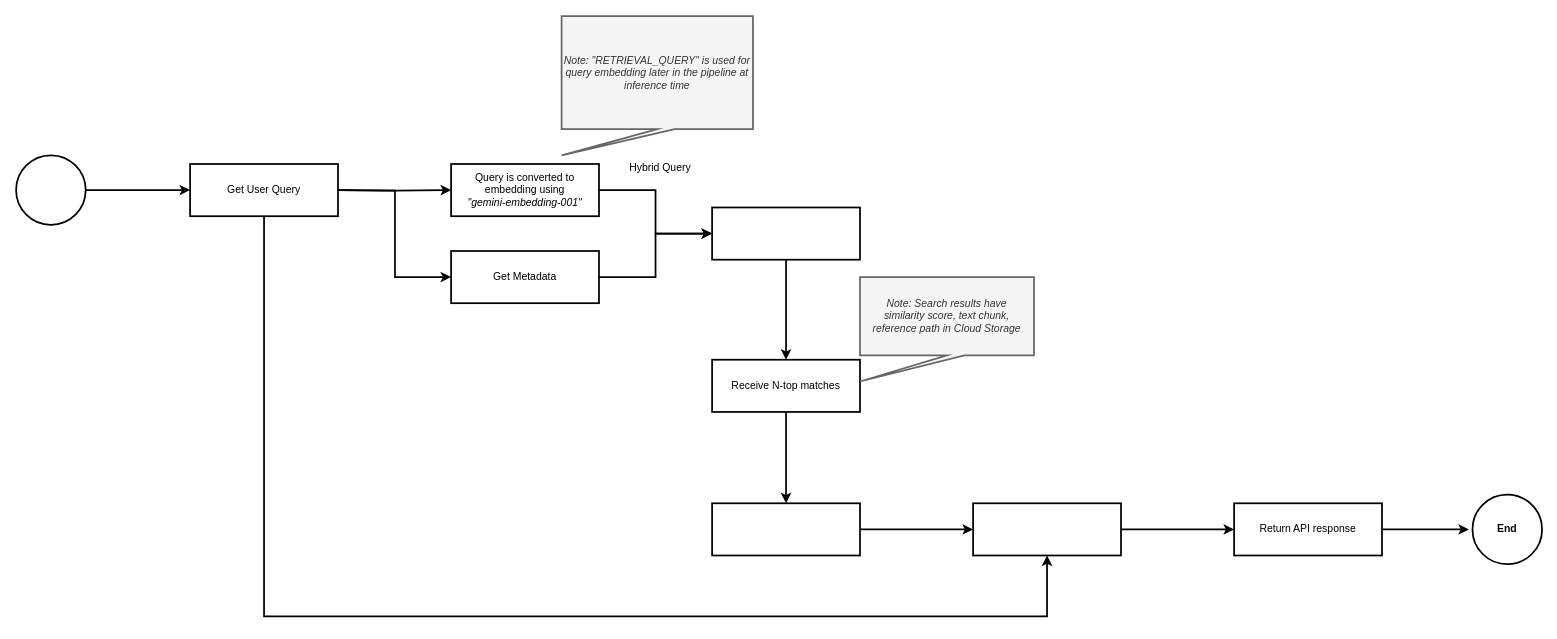
Some shapes in this 1557 by 639 pixel diagram are drawn without their labels. Each missing label, with the centre of its shape:
"Gemini model contextualizes the results" belongs at point (1046, 529).
"Start" belongs at point (50, 189).
"Vector Search" belongs at point (785, 233).
"Vertex AI Reranking API" belongs at point (785, 529).
